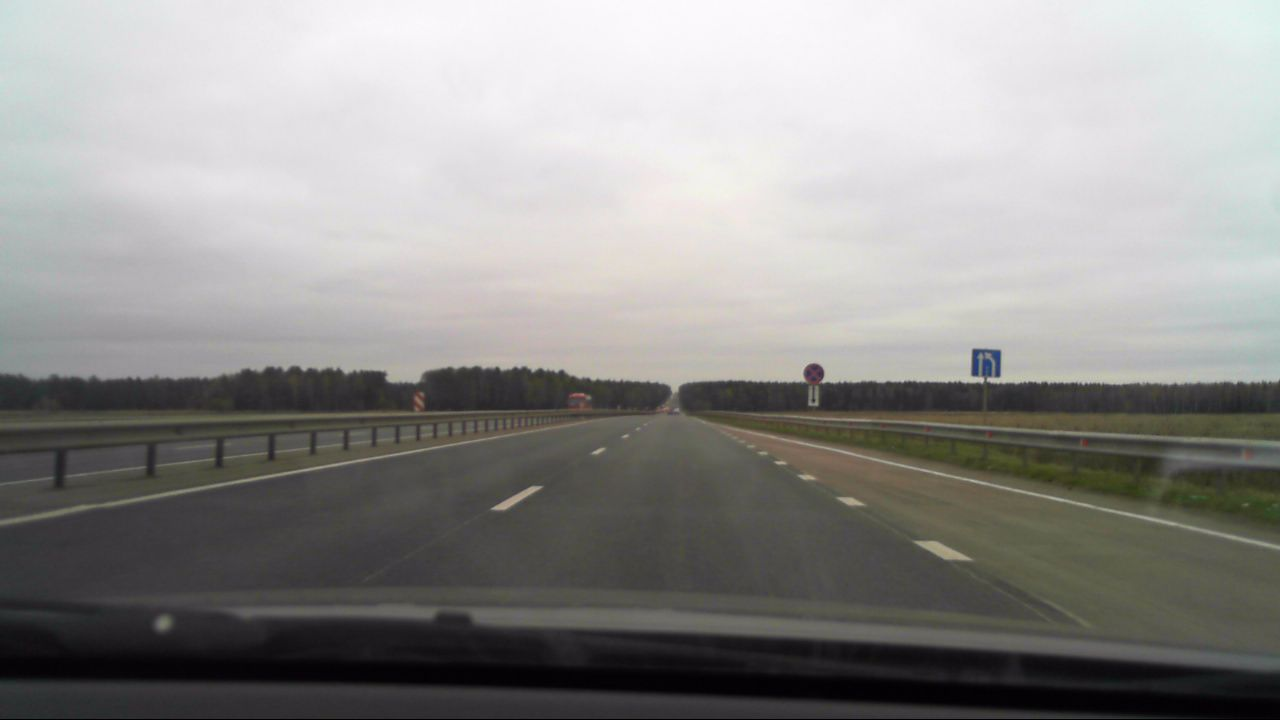No Parking: (801, 361, 826, 384)
